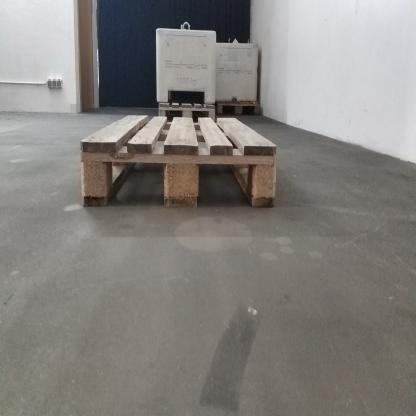BoxFace: (79, 109, 279, 212), (156, 101, 216, 124), (217, 98, 262, 116)
